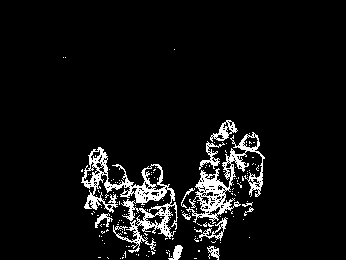person: (179, 160, 233, 260), (130, 160, 179, 260), (79, 143, 117, 247), (99, 164, 140, 255), (225, 130, 265, 222), (204, 113, 240, 182)
